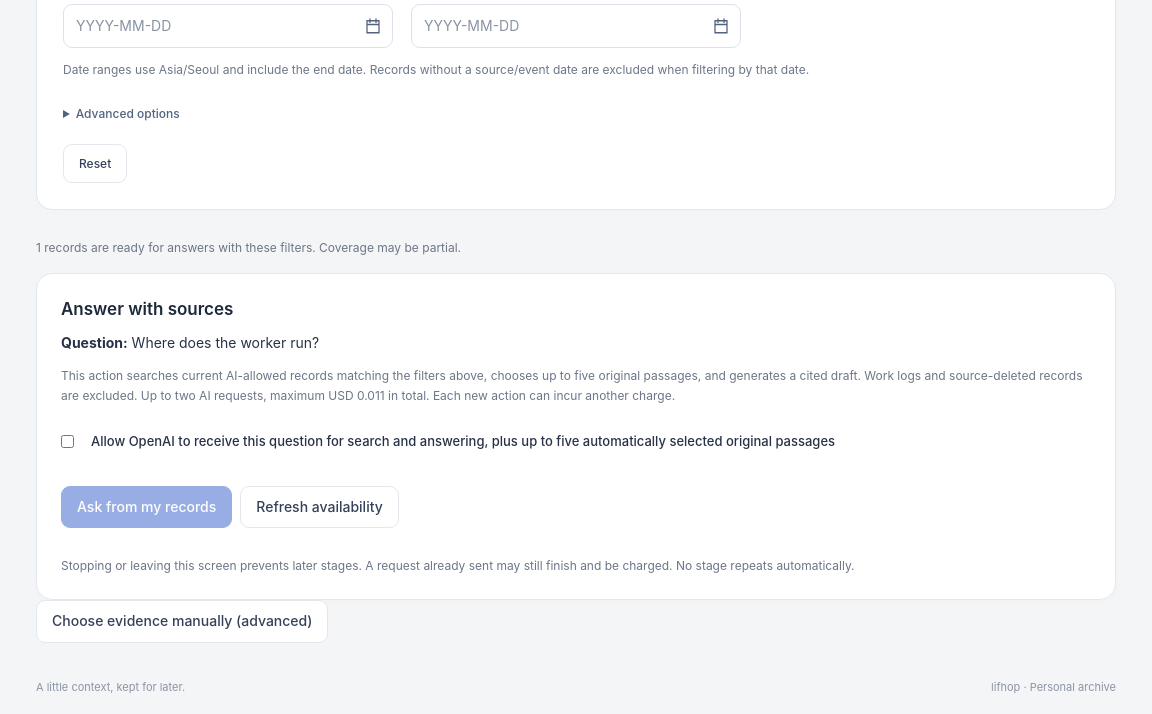
Scenario: stops without an answer request when no evidence is found
(page scrolled)
Check: the button "Ask from my records" is shown, box [61,486,232,528]
Click the checkbox named "Allow OpenAI to receive this question for search and answering, plus up to five automatically selected original passages" at (68, 441), box [61,433,74,450]
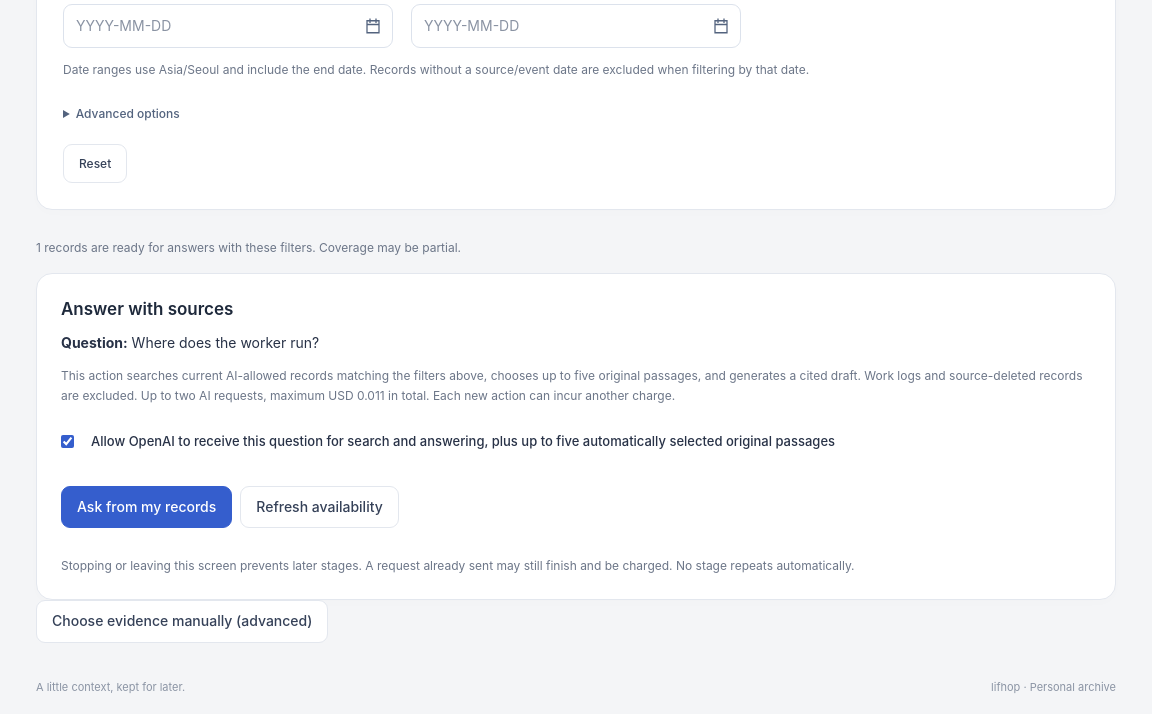
Click the button "Ask from my records" at (147, 507), box [61,486,232,528]
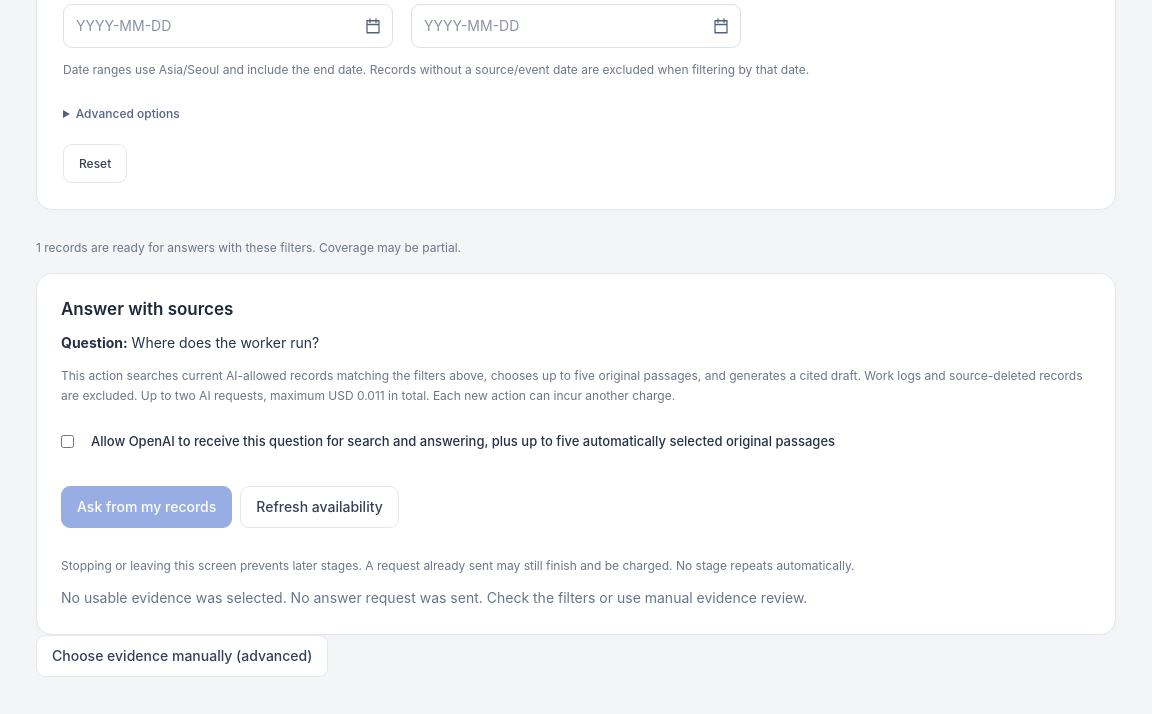
Check: the text "No usable evidence was selected" is shown, box [61,589,487,606]
